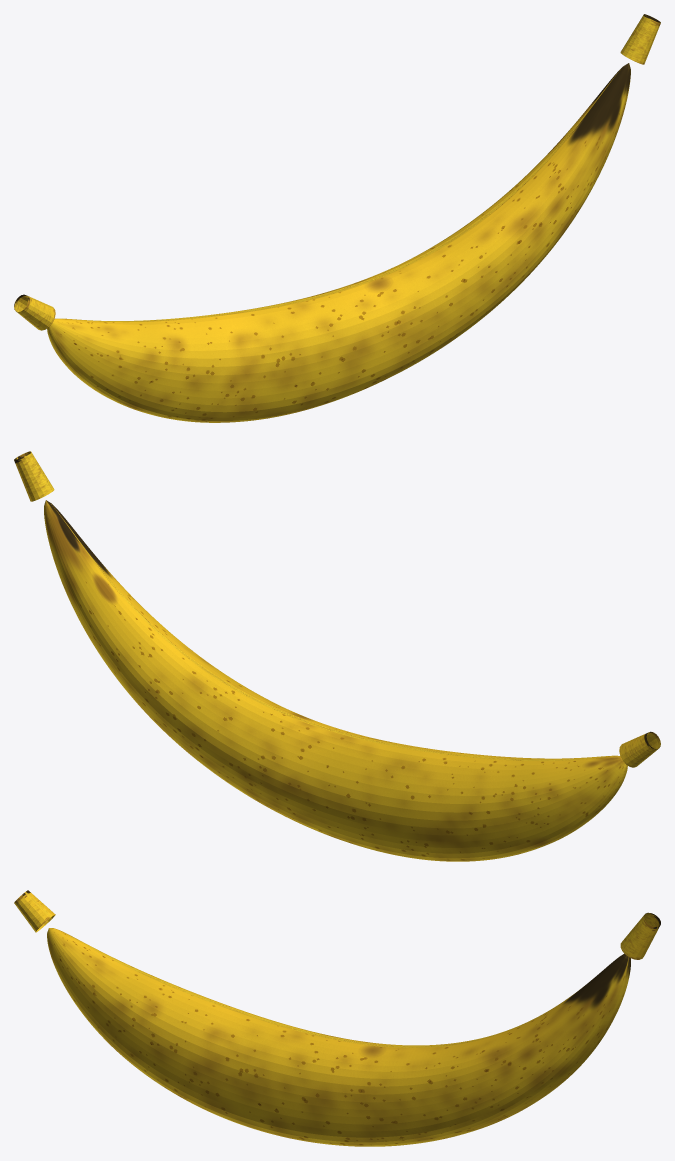
File: banana_3d.obj
3 views of the same model, one above another, from view 1: azimuth 30°, elevation 25°; view 2: azimuth 150°, elevation 25°; view 3: azimuth 330°, elevation 25° (orthographic).
Visible parts, largest first — view 1: Banana_3D; view 2: Banana_3D; view 3: Banana_3D.
Part boxes in pixels (<box>): Banana_3D: <box>14,14,660,422</box>; Banana_3D: <box>14,451,660,861</box>; Banana_3D: <box>14,890,660,1146</box>.
Size of the model in its own units: 5.77 by 2.64 by 0.5989.
1 material, 1 textured.
